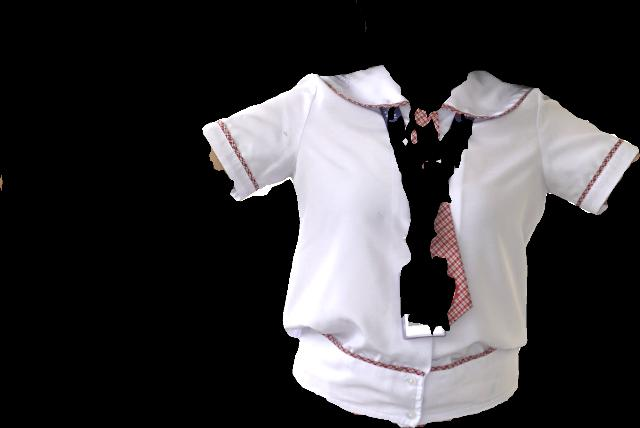pologirl: (203, 65, 639, 427)
